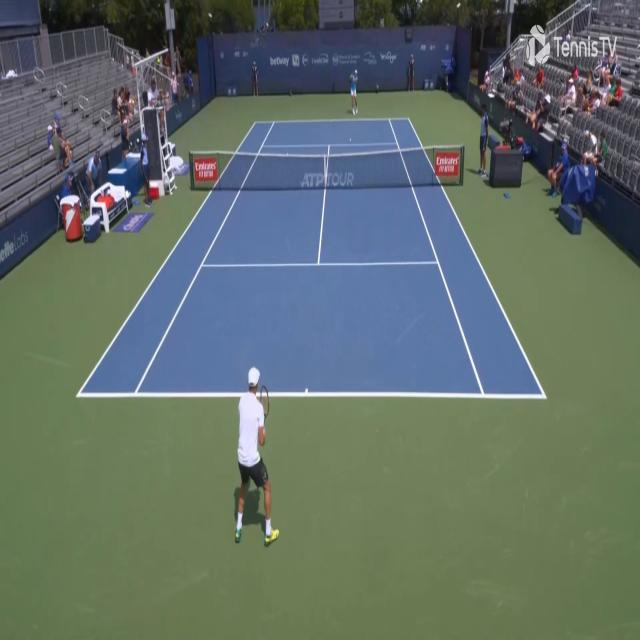tennis-player: (229, 362, 277, 548), (347, 68, 359, 116)
